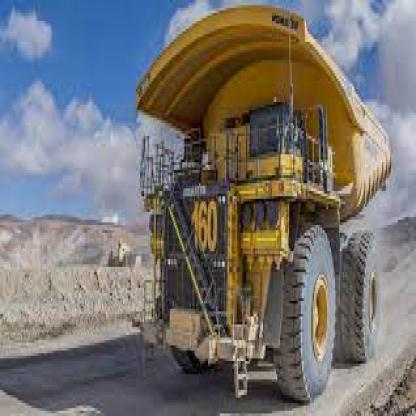dump_truck: (120, 5, 386, 398)
